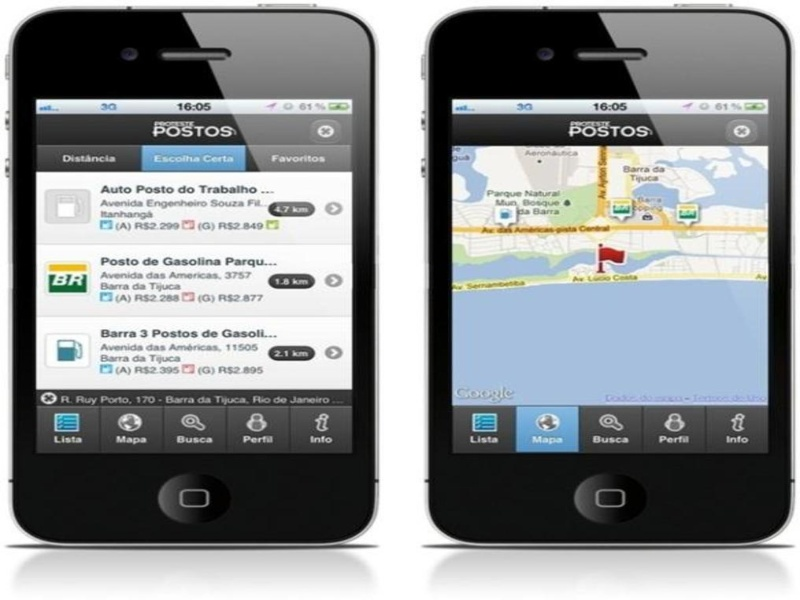cellphone: (415, 5, 796, 564), (1, 1, 385, 548)
